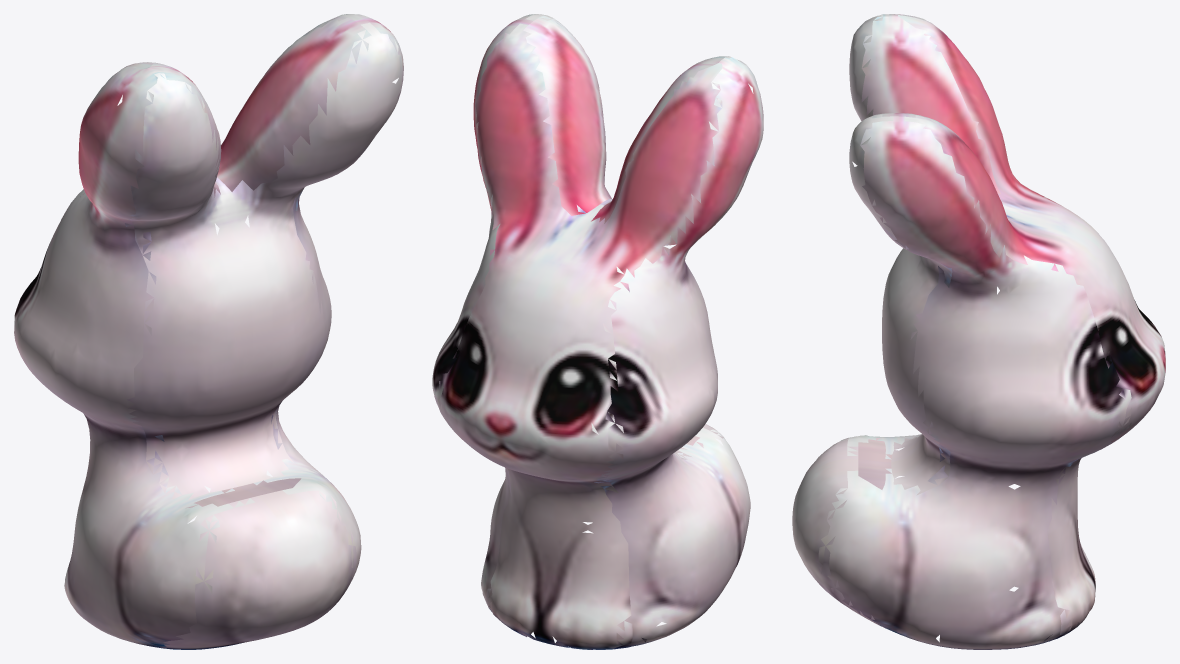
Rendered from Lapin.glb.
3 renders of one model, left to right at view 1: azimuth 30°, elevation 25°; view 2: azimuth 150°, elevation 25°; view 3: azimuth 270°, elevation 25°, orthographic. The views are drawn at different scales.
Parts seen in each view (by area): view 1: Lapin; view 2: Lapin; view 3: Lapin.
Part boxes in pixels (x1=…): Lapin: x1=14, y1=14, x2=403, y2=649; Lapin: x1=432, y1=14, x2=763, y2=649; Lapin: x1=792, y1=14, x2=1165, y2=649.
Bounding box in the file's own units: 2.14 × 4.16 × 2.51.
Materials: 1 (1 with a texture image).
